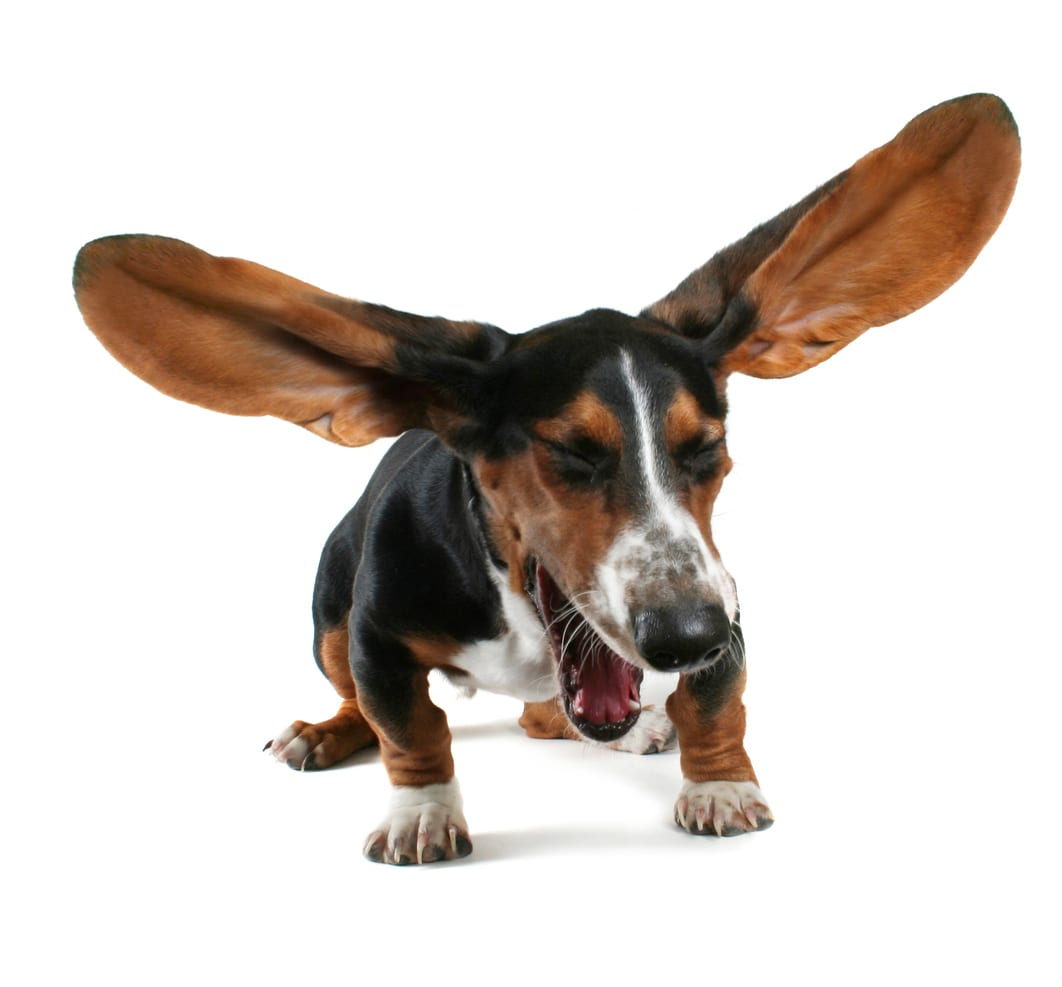Dog: (63, 82, 1062, 880)
